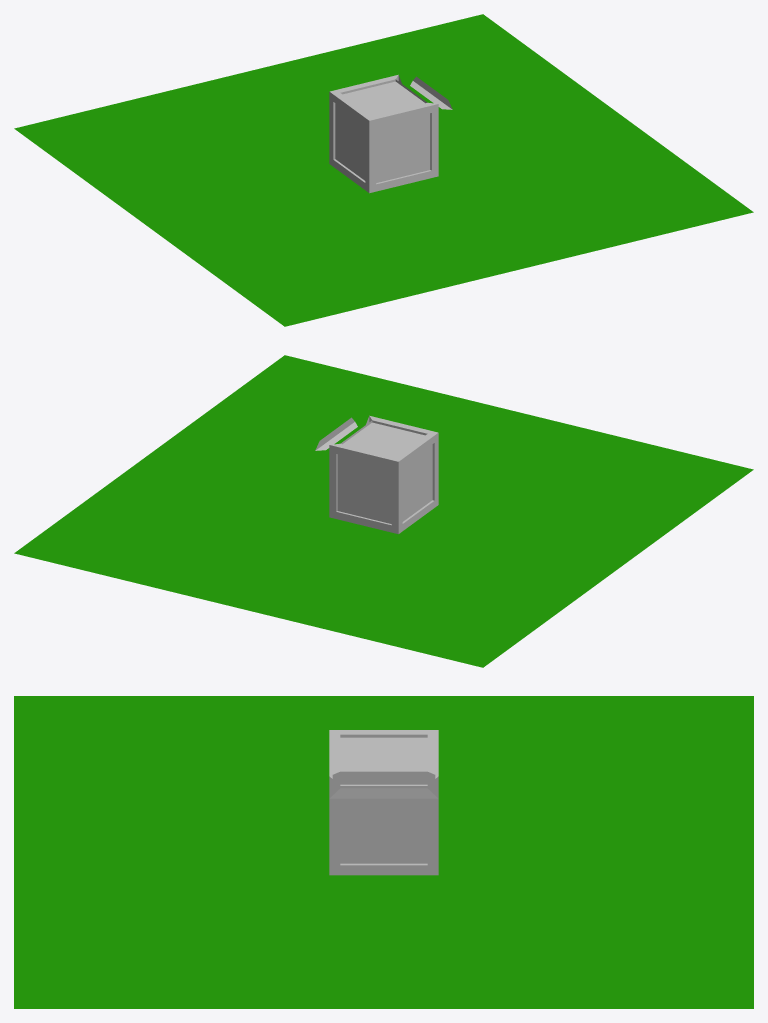
Rendered from caixa_000030.obj.
The picture shows the model from 3 angles, top to bottom: view 1: azimuth 30°, elevation 25°; view 2: azimuth 150°, elevation 25°; view 3: azimuth 270°, elevation 25°; orthographic projection. The views are drawn at different scales.
Parts seen in each view (by area): view 1: Plane, Cube_Cube.003, Cube.001_Cube.000; view 2: Plane, Cube_Cube.003, Cube.001_Cube.000; view 3: Plane, Cube_Cube.003, Cube.002_Cube.001, Cube.001_Cube.000.
Boxes of the visible parts, bbox=[...] form: Plane: bbox=[14, 14, 753, 326]; Cube_Cube.003: bbox=[329, 74, 438, 193]; Cube.001_Cube.000: bbox=[410, 76, 452, 109]; Plane: bbox=[14, 355, 753, 667]; Cube_Cube.003: bbox=[329, 415, 438, 534]; Cube.001_Cube.000: bbox=[315, 417, 357, 450]; Plane: bbox=[14, 696, 753, 1008]; Cube_Cube.003: bbox=[329, 730, 438, 875]; Cube.002_Cube.001: bbox=[340, 784, 427, 863]; Cube.001_Cube.000: bbox=[330, 788, 437, 798].
Size of the model in its own units: 13.55 by 2.01 by 13.55.
